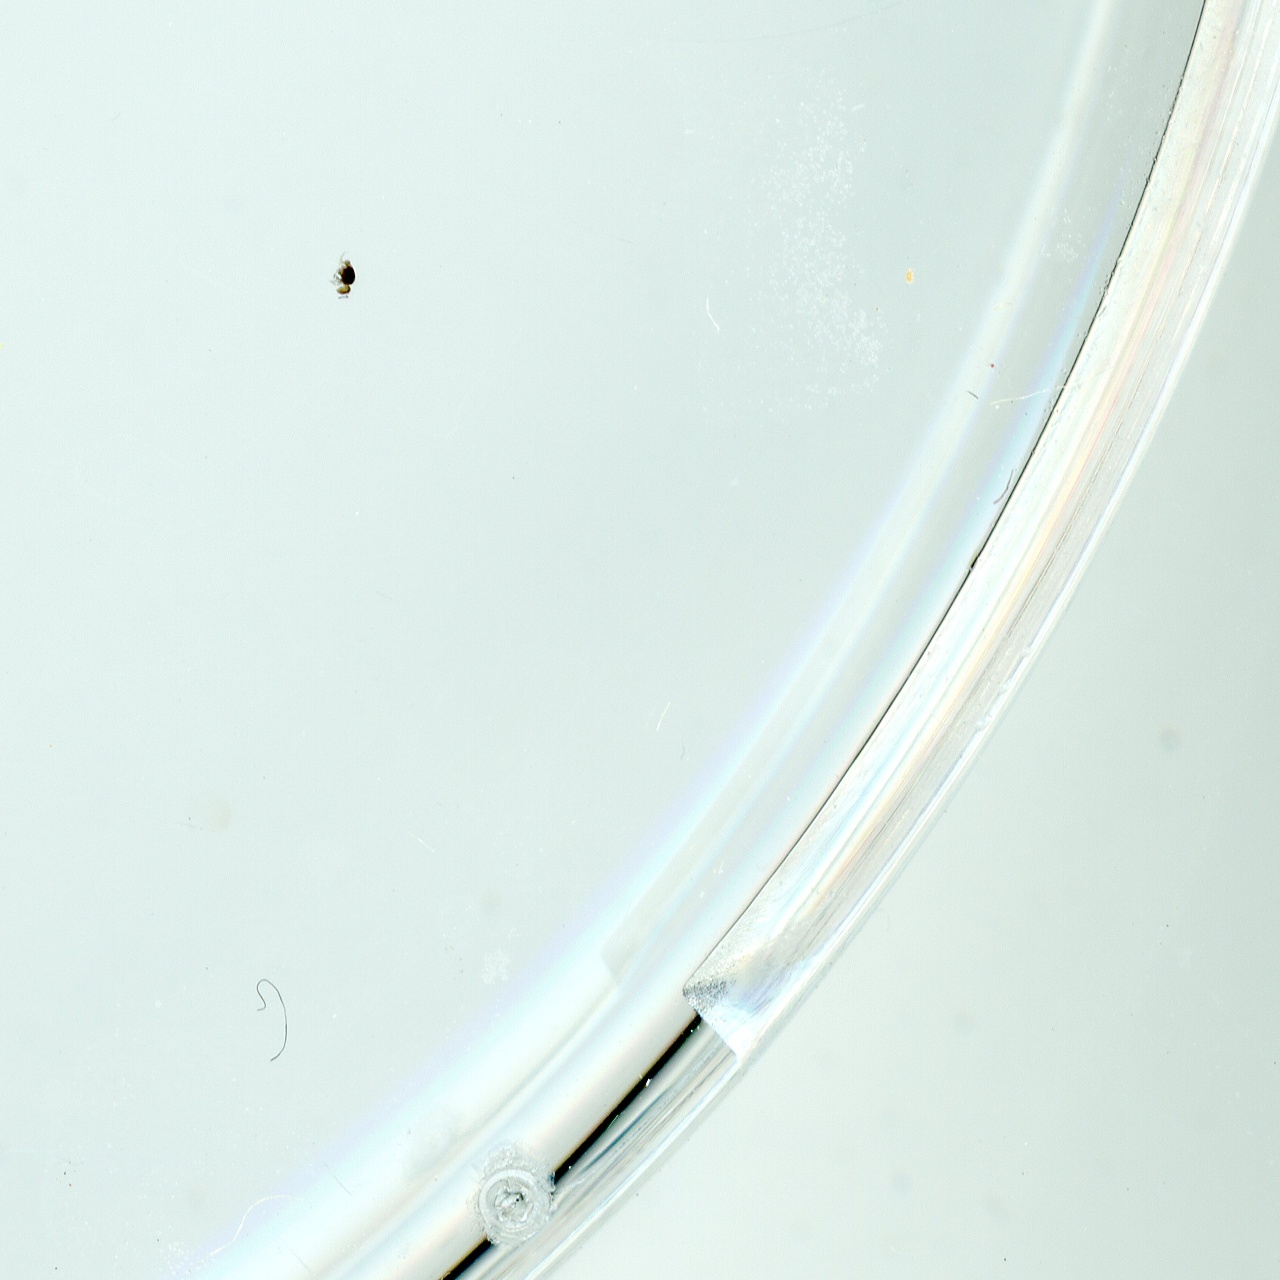arthropod: (327, 247, 360, 302), (83, 1271, 163, 1280)
